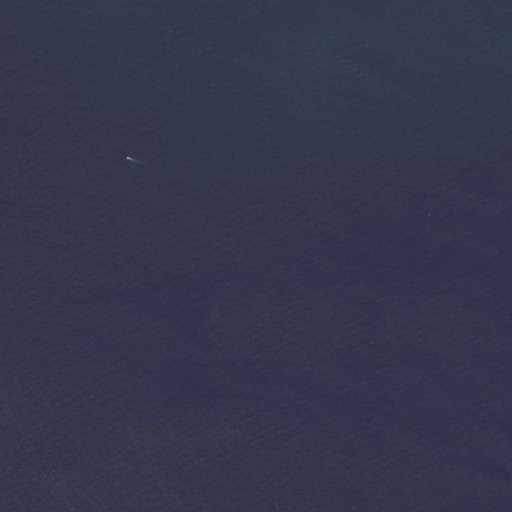ship: (122, 152, 137, 164)
